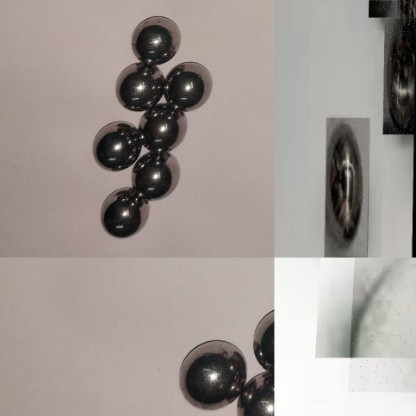ironball: (350, 257, 415, 392), (324, 117, 370, 257), (173, 335, 249, 410), (382, 17, 415, 134), (86, 115, 145, 174), (96, 183, 155, 239), (163, 59, 217, 110), (138, 100, 192, 150), (129, 151, 181, 202), (128, 15, 182, 63), (115, 61, 164, 110), (235, 369, 272, 414), (252, 309, 274, 372), (368, 0, 396, 17), (399, 0, 413, 34)
